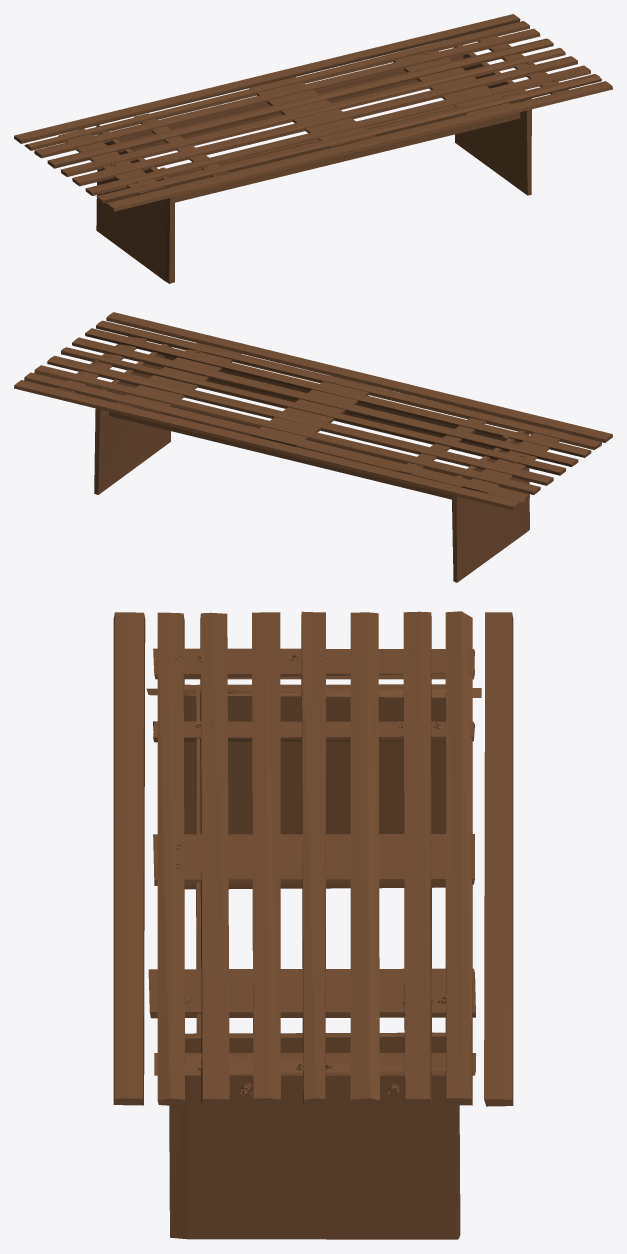
The model's file is gen-bench-slatted-platform-1.glb.
The picture shows the model from 3 angles, top to bottom: view 1: azimuth 30°, elevation 25°; view 2: azimuth 150°, elevation 25°; view 3: azimuth 270°, elevation 25°; orthographic projection. The views are drawn at different scales.
Parts seen in each view (by area): view 1: gen-bench-slatted-platform-1_part1; view 2: gen-bench-slatted-platform-1_part1; view 3: gen-bench-slatted-platform-1_part1.
Boxes of the visible parts, x1,y1,x2,y2 form: gen-bench-slatted-platform-1_part1: [14, 14, 612, 283]; gen-bench-slatted-platform-1_part1: [14, 312, 612, 582]; gen-bench-slatted-platform-1_part1: [113, 611, 513, 1239].
Size of the model in its own units: 1800 by 355 by 624.
